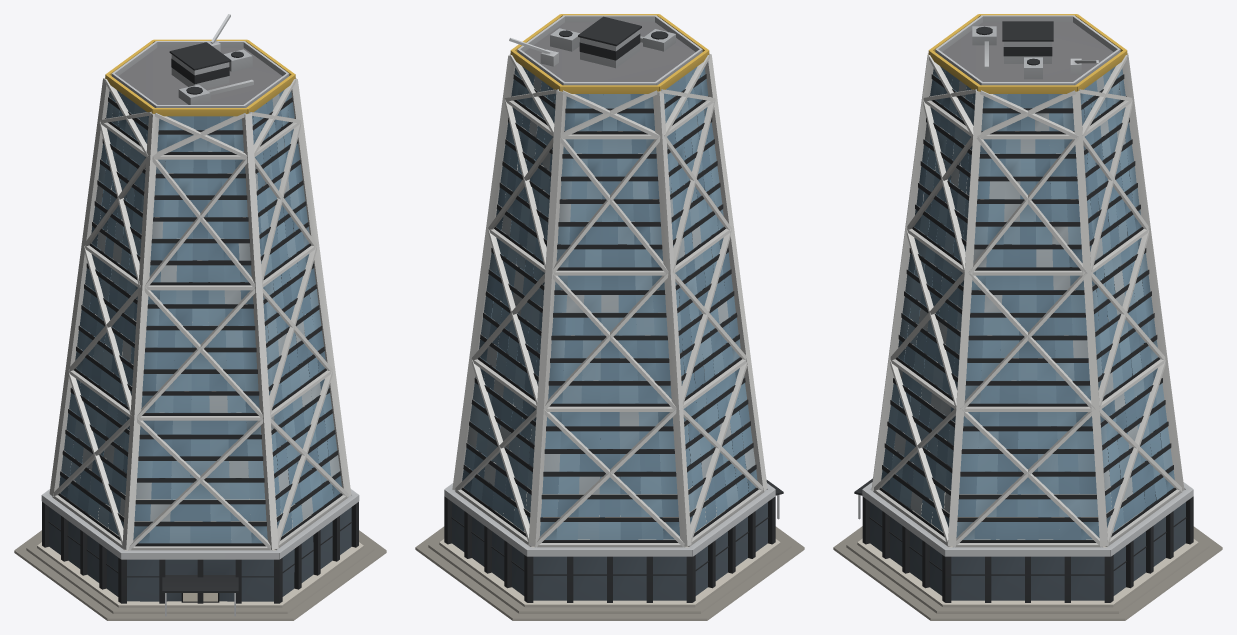
3 renders of one model, left to right at view 1: azimuth 30°, elevation 25°; view 2: azimuth 150°, elevation 25°; view 3: azimuth 270°, elevation 25°, orthographic. The views are drawn at different scales.
Parts seen in each view (by area): view 1: t2; view 2: t2; view 3: t2.
Boxes of the visible parts, <box> form: t2: <box>14,14,386,620</box>; t2: <box>415,14,804,620</box>; t2: <box>833,14,1222,620</box>.
Bounding box in the file's own units: 54.88 × 93.66 × 63.37.
